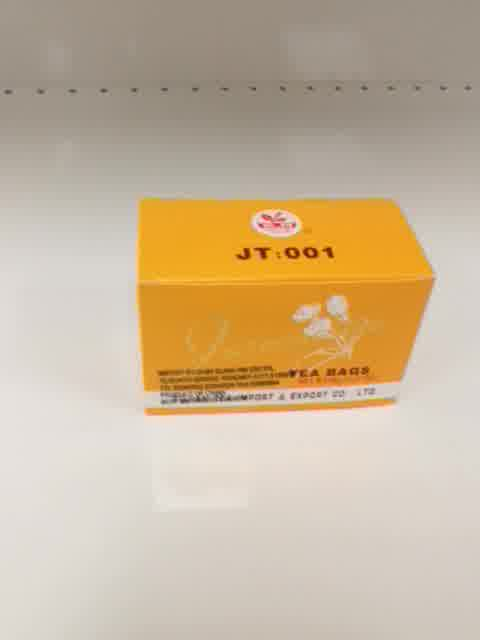jasminetea: (136, 194, 436, 416)
